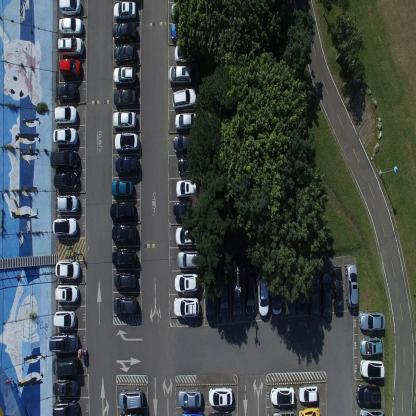car: (50, 148, 79, 170), (345, 263, 358, 310), (49, 332, 78, 353), (111, 222, 137, 245), (355, 383, 381, 406), (172, 296, 199, 318), (172, 135, 200, 156), (118, 388, 144, 410), (269, 386, 296, 407), (172, 89, 197, 111), (174, 226, 200, 247), (109, 200, 135, 221), (52, 170, 79, 190), (51, 356, 78, 376), (330, 268, 342, 313), (218, 272, 229, 321), (231, 268, 242, 317), (115, 155, 139, 177), (115, 131, 139, 153), (320, 274, 332, 318), (270, 272, 282, 316), (174, 112, 199, 133), (111, 247, 136, 268), (58, 57, 83, 78), (112, 22, 138, 42), (359, 312, 385, 332), (257, 271, 268, 318), (172, 201, 199, 220), (57, 36, 84, 55), (51, 377, 78, 396), (205, 275, 216, 321), (112, 294, 136, 315), (168, 66, 192, 87), (174, 45, 198, 66), (55, 259, 80, 279), (171, 24, 197, 43), (52, 216, 78, 235), (284, 271, 295, 315), (308, 275, 319, 319), (114, 87, 137, 108), (55, 193, 78, 214), (176, 249, 199, 270), (113, 1, 136, 22), (175, 179, 199, 199), (113, 110, 137, 130), (113, 65, 137, 85), (114, 43, 138, 63), (54, 103, 78, 123), (59, 16, 83, 36), (174, 272, 198, 292), (177, 388, 201, 408), (360, 360, 384, 380), (177, 158, 202, 177), (54, 283, 79, 302), (52, 398, 78, 416), (296, 270, 306, 316), (110, 179, 134, 198), (208, 387, 232, 406), (359, 337, 383, 356), (170, 4, 196, 21), (113, 270, 136, 289), (53, 309, 76, 328), (54, 126, 78, 144), (245, 268, 254, 316), (57, 82, 78, 102), (297, 385, 319, 403), (59, 0, 82, 16), (359, 407, 385, 415), (271, 408, 296, 416), (208, 408, 232, 416), (298, 406, 320, 414), (180, 410, 204, 416), (118, 411, 145, 415)
